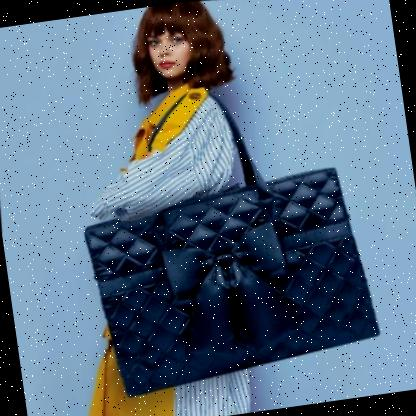bag: (74, 156, 394, 406)
person: (34, 0, 291, 416)
